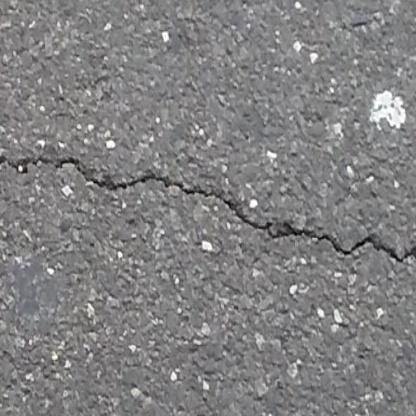Cracks: (0, 151, 416, 269)
